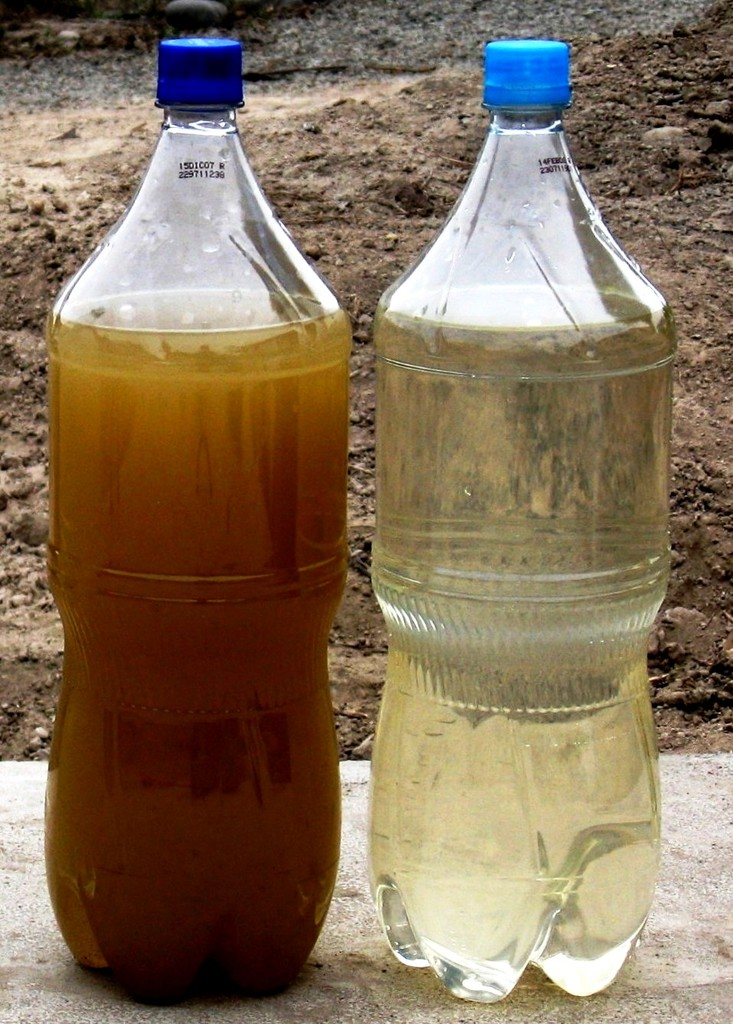can: (366, 39, 678, 1004), (45, 38, 352, 1007)
